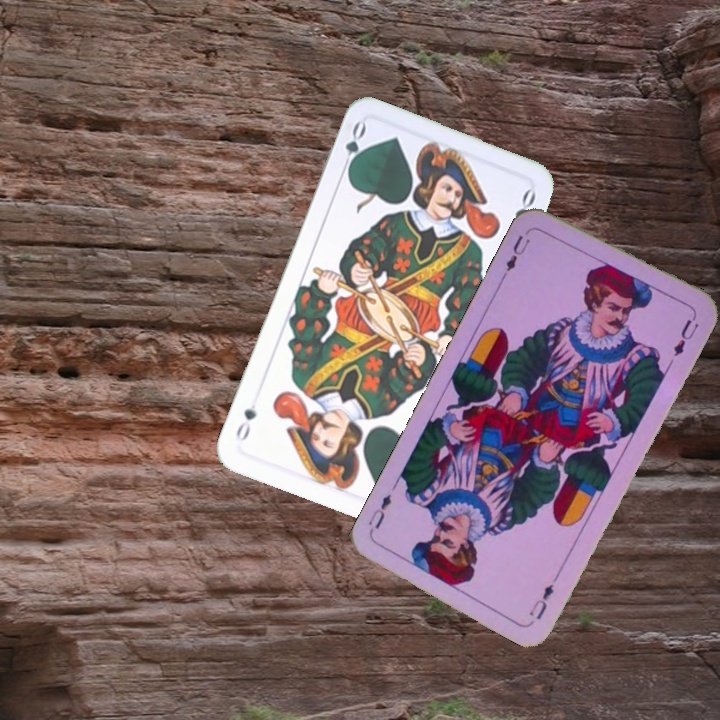EU: (525, 569, 563, 623), (498, 231, 533, 280)
GO: (337, 118, 369, 178)
